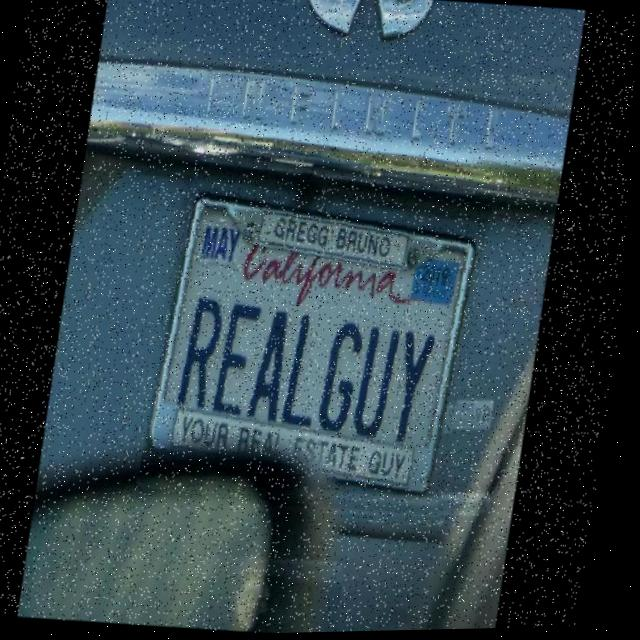LicensePlate: (142, 170, 495, 523)
